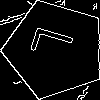L: (30, 24, 84, 65)
